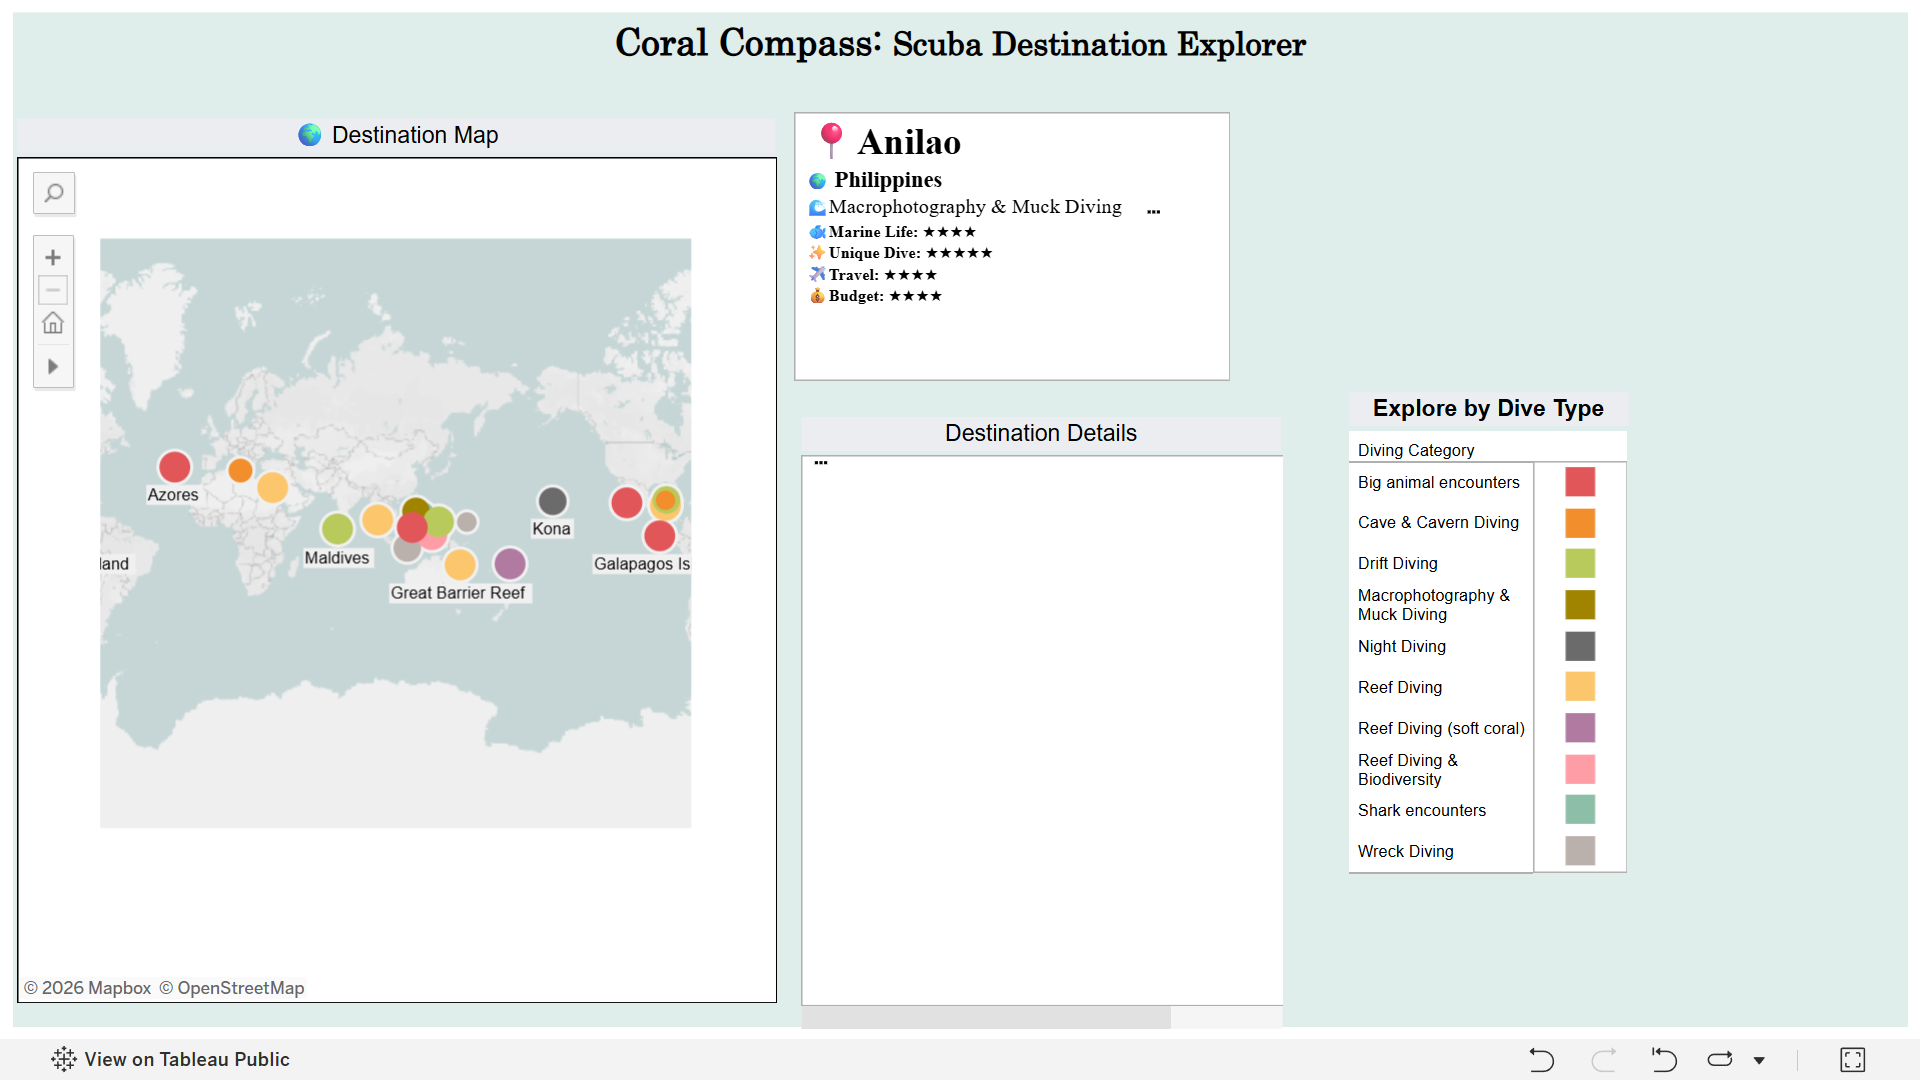

The page's visual inventory and layout, read from the dashboard file:
{"tool":"tableau","page":{"name":"Dashboard 1","canvas":[1000,1000],"units":"permille","ordinal":0},"visuals":[{"type":"title","box":[4.8,9.4,990.3,52.9]},{"type":"worksheet","title":"Destination Snapshots","mark":"Text","box":[412.8,108.1,227.5,291.4]},{"type":"worksheet","title":"🌍 Destination Map","mark":"Automatic","rows":["Latitude"],"cols":["Longitude"],"box":[8.4,114,395.9,850.8]},{"type":"worksheet","title":"Dive Category Filter","mark":"Square","rows":["Diving Category"],"box":[701.9,377.2,149.1,490]},{"type":"worksheet","title":"Destination Details","mark":"Automatic","box":[417,400.7,205.2,593.4]}]}

Visuals, with their boxes on the dashboard's canvas, which has no fixed pixel size, in thousandths of its width and height (x1, y1, x2, y2). These are canvas units, not pixel positions in the 1920x1080 screenshot, which may show the page scaled, cropped or inside an application window:
title: crop(5, 9, 995, 62)
"Destination Snapshots" worksheet (Text marks): crop(413, 108, 640, 400)
"🌍 Destination Map" worksheet: crop(8, 114, 404, 965)
"Dive Category Filter" worksheet (Square marks): crop(702, 377, 851, 867)
"Destination Details" worksheet: crop(417, 401, 622, 994)
